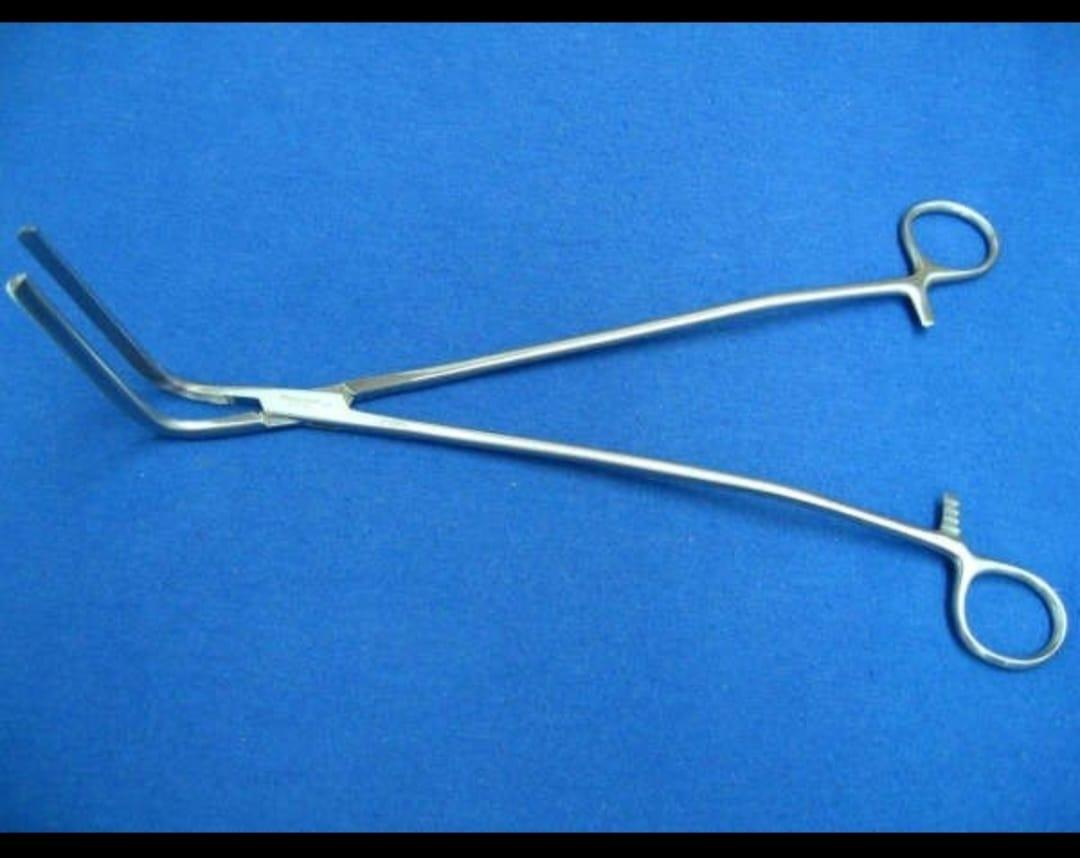Surgical blade: (5, 198, 1065, 691)
